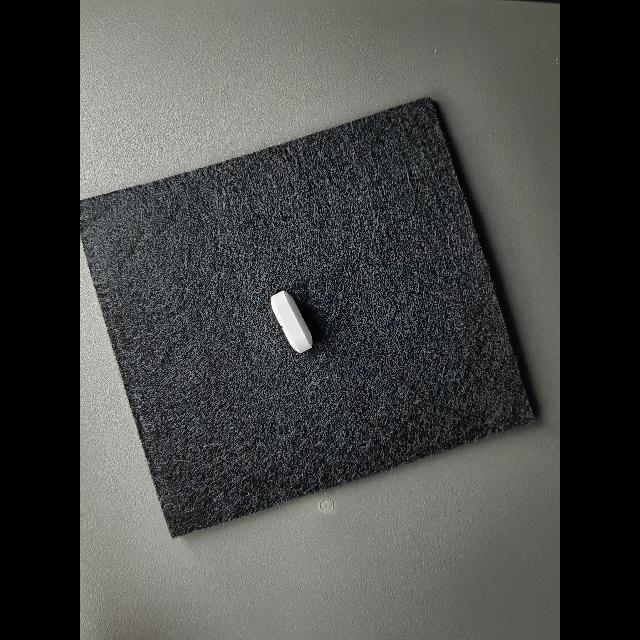Intact Pill: (271, 291, 312, 354)
